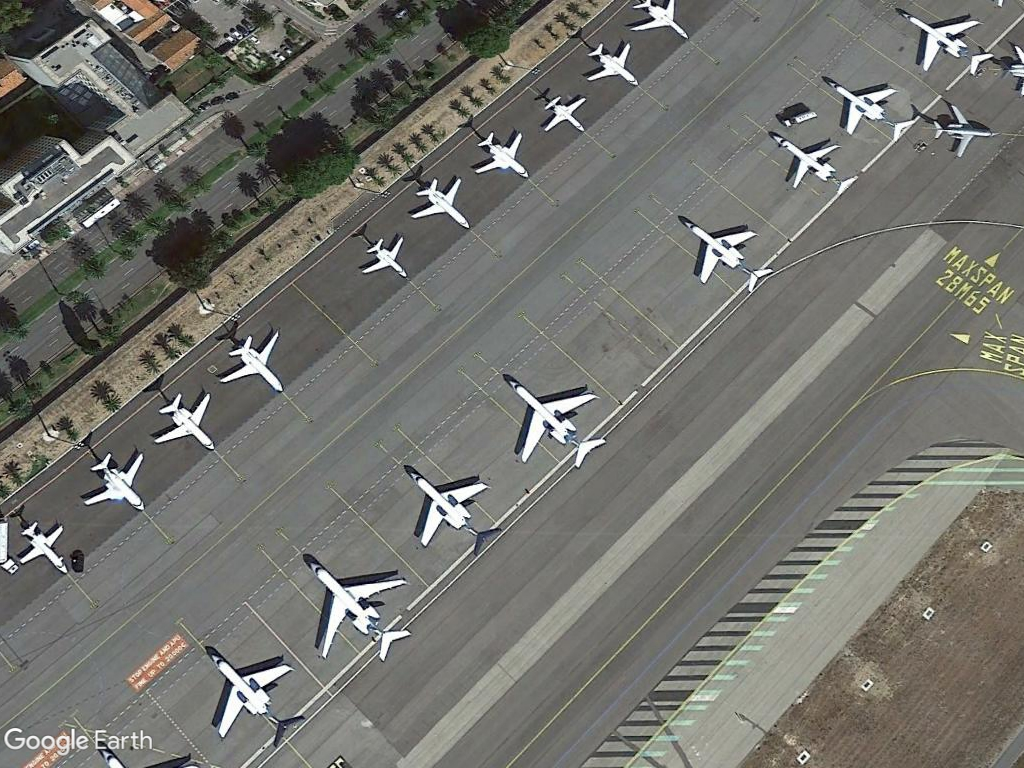chartered: (301, 554, 417, 663), (199, 640, 308, 747), (499, 371, 609, 470), (401, 464, 503, 556), (673, 211, 775, 295), (764, 127, 863, 201), (214, 332, 290, 394), (149, 392, 220, 454), (80, 453, 149, 516), (406, 176, 475, 232), (467, 128, 533, 182), (10, 522, 70, 580), (355, 233, 415, 280)
